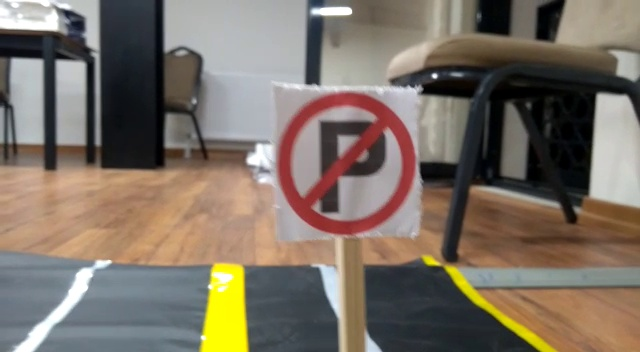park_yapilmaz: (277, 85, 423, 237)
